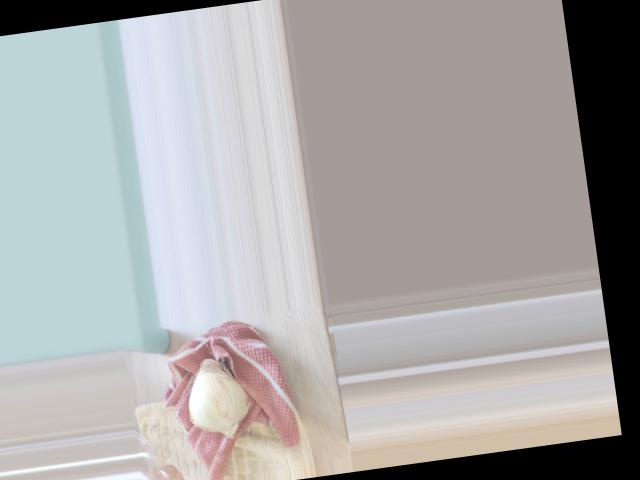onion: (178, 358, 255, 437)
